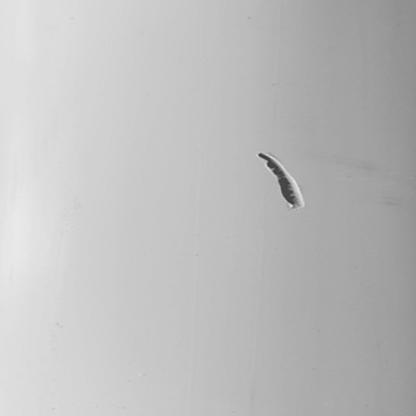kongdong: (246, 145, 313, 212)
